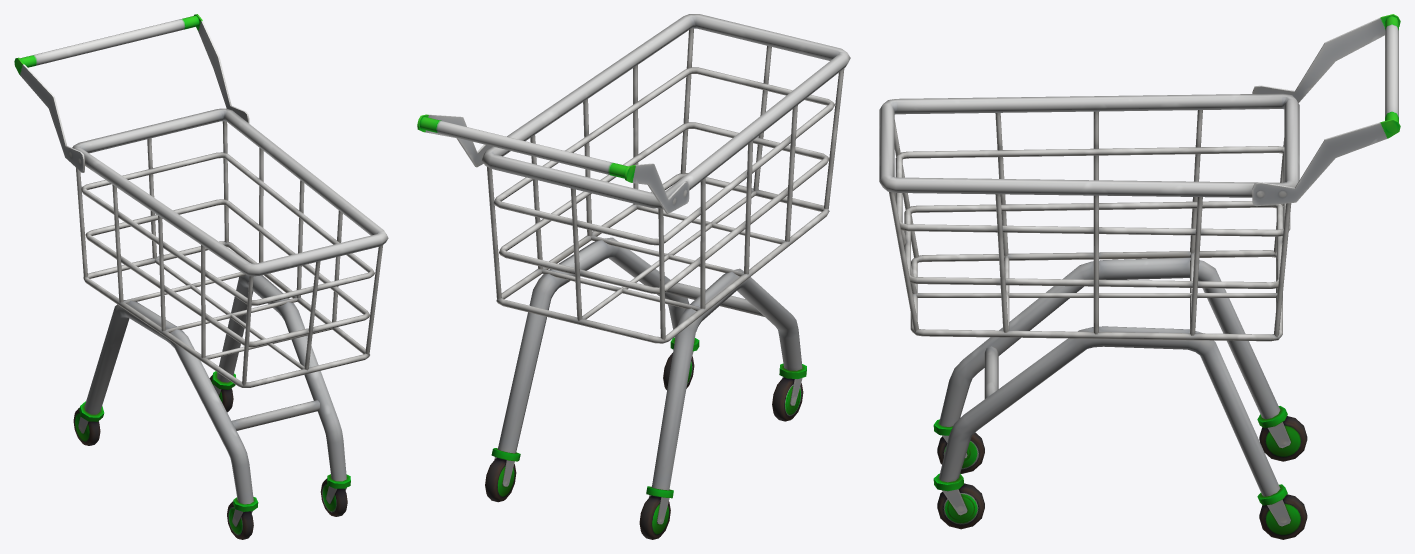
Rendered from CommCart01.FBX.
The picture shows the model from 3 angles, left to right: view 1: azimuth 30°, elevation 25°; view 2: azimuth 150°, elevation 25°; view 3: azimuth 270°, elevation 25°; orthographic projection. The views are drawn at different scales.
Parts seen in each view (by area): view 1: CommCart01; view 2: CommCart01; view 3: CommCart01.
Part boxes in pixels (x1,y1,x2,y2): CommCart01: [14, 14, 388, 539]; CommCart01: [417, 14, 850, 539]; CommCart01: [879, 14, 1400, 539].
Size of what is drawn, in the model's own units: 0.576 by 1.1 by 1.2.
